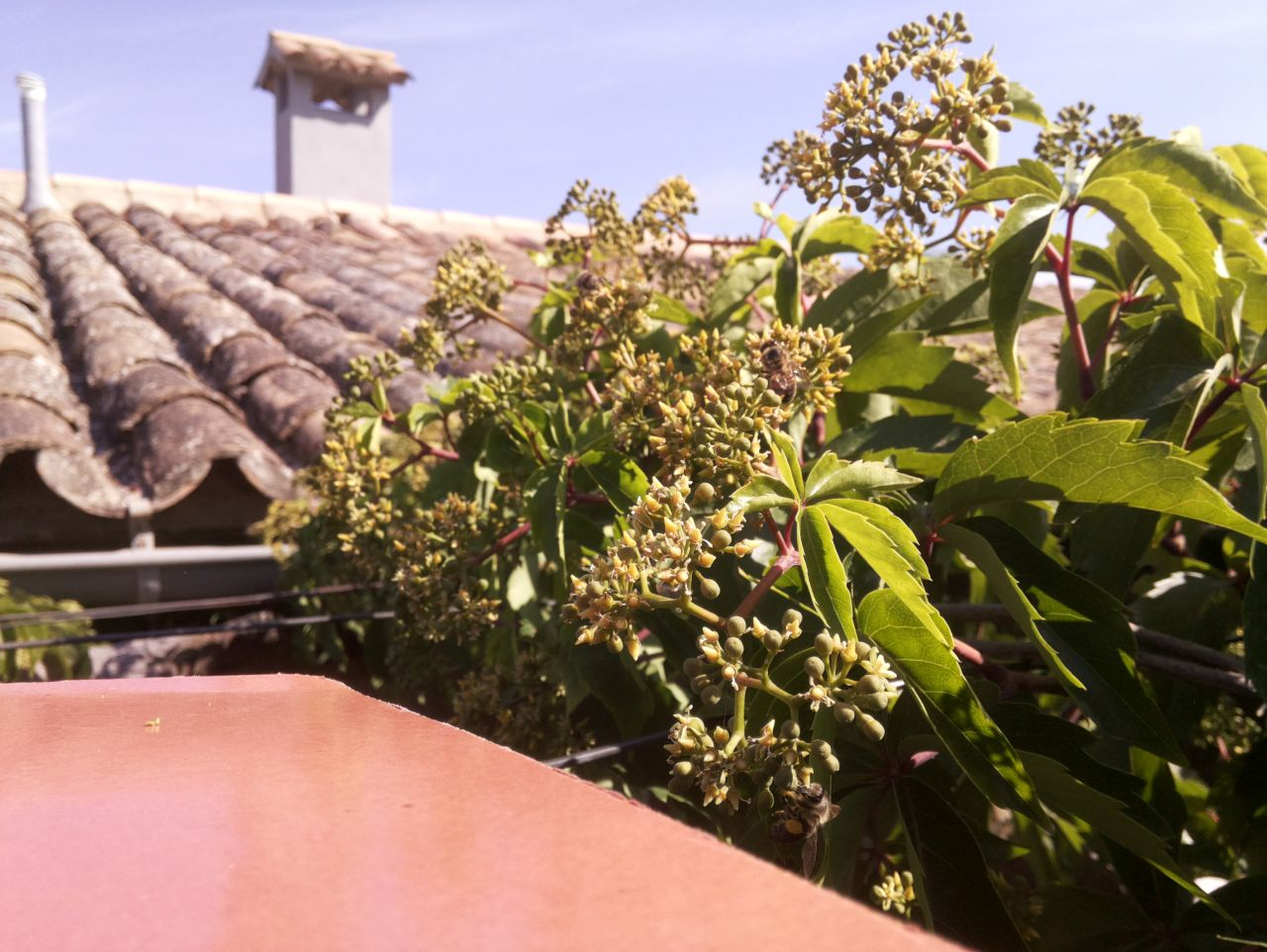Apis mellifera: (762, 771, 867, 852), (752, 335, 813, 410), (568, 265, 609, 298)
